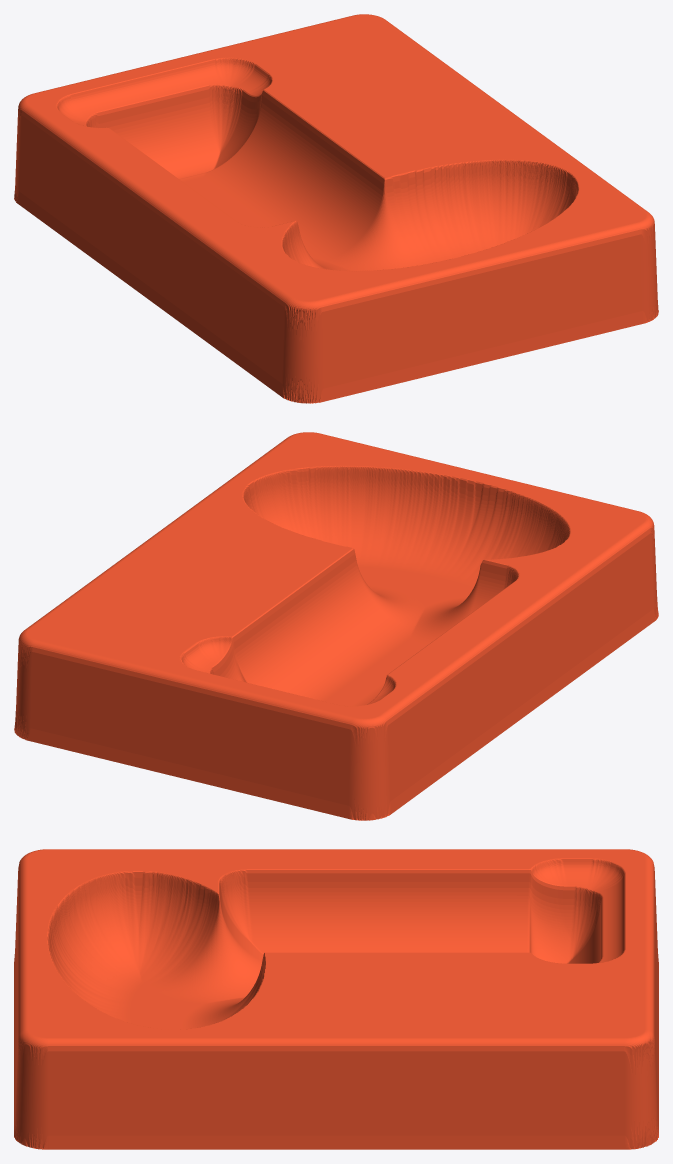
The model's file is mold.glb.
The picture shows the model from 3 angles, top to bottom: view 1: azimuth 30°, elevation 25°; view 2: azimuth 150°, elevation 25°; view 3: azimuth 270°, elevation 25°; orthographic projection. The views are drawn at different scales.
Parts seen in each view (by area): view 1: geometry_0; view 2: geometry_0; view 3: geometry_0.
Part boxes in pixels (<box>): geometry_0: <box>14,14,658,403</box>; geometry_0: <box>14,432,658,820</box>; geometry_0: <box>14,849,658,1149</box>.
Bounding box in the file's own units: 0.125 × 0.031 × 0.1709.
